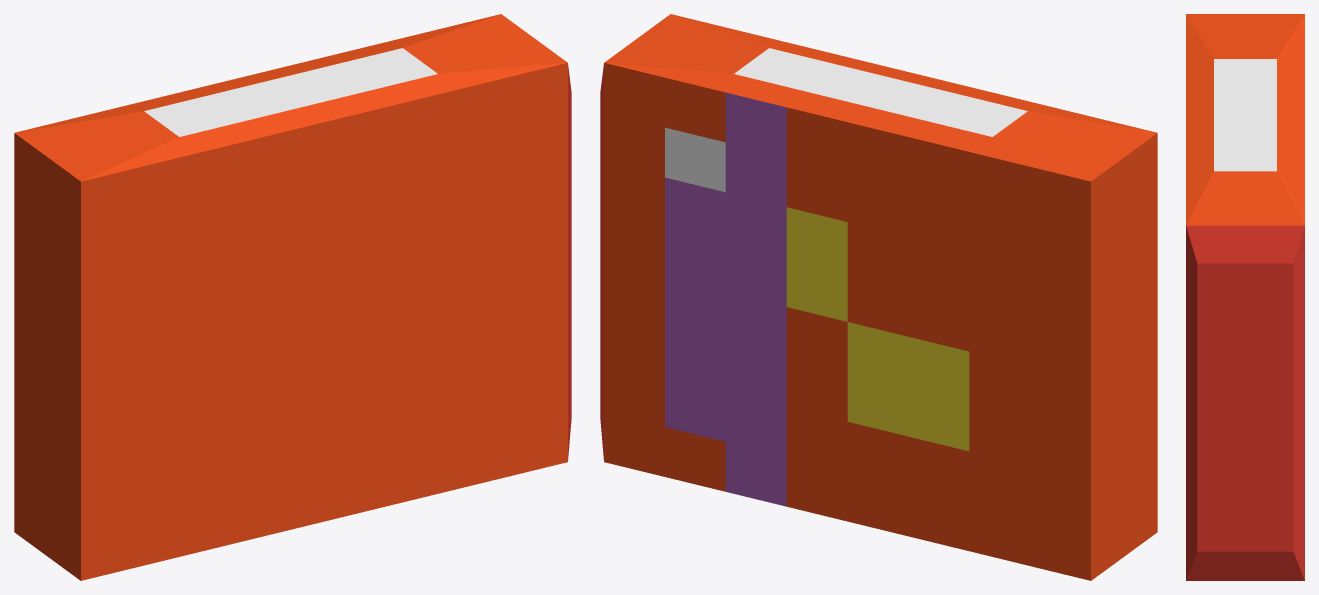
Rendered from trash8.fbx.
3 views of the same model, side by side, from view 1: azimuth 30°, elevation 25°; view 2: azimuth 150°, elevation 25°; view 3: azimuth 270°, elevation 25° (orthographic). The views are drawn at different scales.
Visible parts, largest first — view 1: group1373108668; view 2: group1373108668; view 3: group1373108668.
Boxes of the visible parts, <box> form: group1373108668: <box>14,14,571,580</box>; group1373108668: <box>600,14,1157,580</box>; group1373108668: <box>1186,14,1304,580</box>.
Size of the model in its own units: 37.89 by 29.46 by 8.8.
